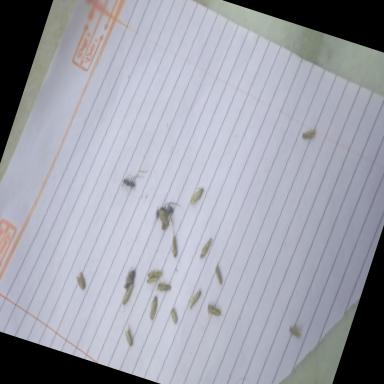pbw: (202, 298, 226, 320), (165, 231, 183, 258), (152, 206, 172, 230), (210, 260, 228, 286), (197, 234, 213, 260), (119, 282, 133, 310), (121, 323, 138, 346), (145, 294, 160, 320), (188, 185, 204, 207), (73, 270, 88, 290), (286, 322, 304, 338), (188, 288, 201, 310), (166, 306, 181, 325), (300, 125, 316, 142), (146, 266, 163, 282), (156, 278, 172, 294), (146, 274, 158, 284)
